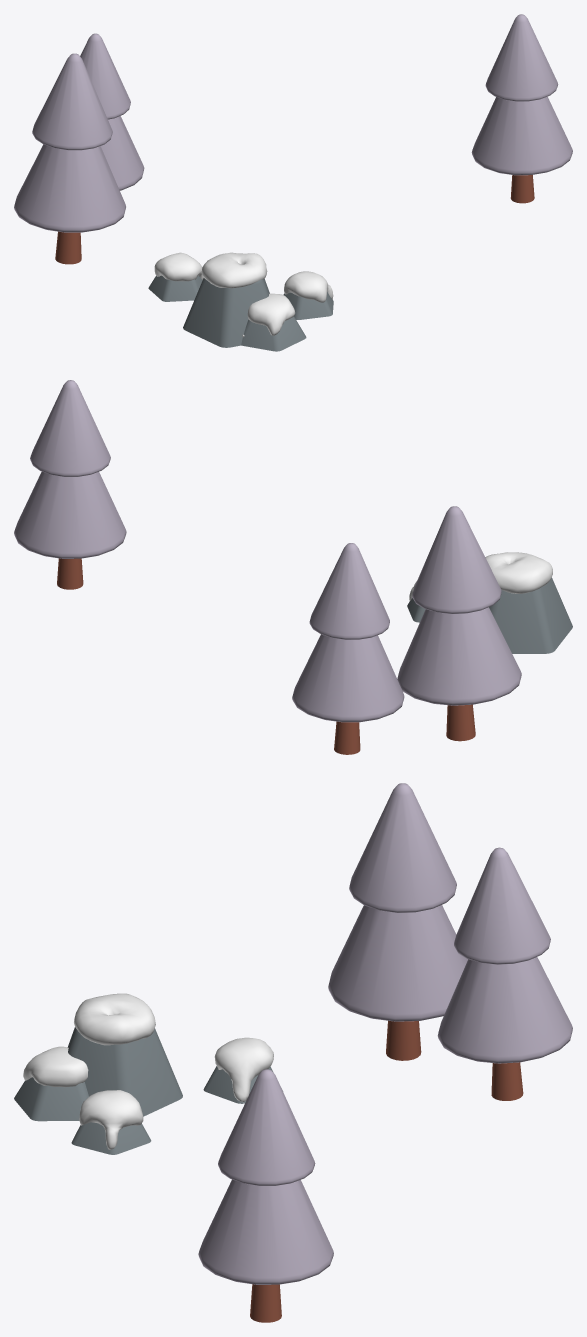
Rendered from detail_forestB.fbx.
3 views of the same model, one above another, from view 1: azimuth 30°, elevation 25°; view 2: azimuth 150°, elevation 25°; view 3: azimuth 270°, elevation 25° (orthographic). The views are drawn at different scales.
Visible parts, largest first — view 1: detail_forestB, detail_forestB.001, SnowBall.001, detail_forestB.002; view 2: detail_forestB, detail_forestB.001, detail_forestB.002, SnowBall.001; view 3: detail_forestB, detail_forestB.001, SnowBall.001, detail_forestB.002.
Boxes of the visible parts, box(x1,y1,x2,y2) form: detail_forestB: box(14, 14, 572, 232); detail_forestB.001: box(148, 275, 333, 351); SnowBall.001: box(154, 252, 333, 337); detail_forestB.002: box(55, 175, 534, 264); detail_forestB: box(14, 380, 521, 722); detail_forestB.001: box(407, 577, 572, 653); detail_forestB.002: box(57, 558, 475, 754); SnowBall.001: box(409, 552, 552, 600); detail_forestB: box(198, 783, 572, 1284); detail_forestB.001: box(14, 1027, 283, 1154); SnowBall.001: box(23, 993, 273, 1149); detail_forestB.002: box(250, 1020, 523, 1322).
Size of the model in its own units: 185 by 73.88 by 136.
